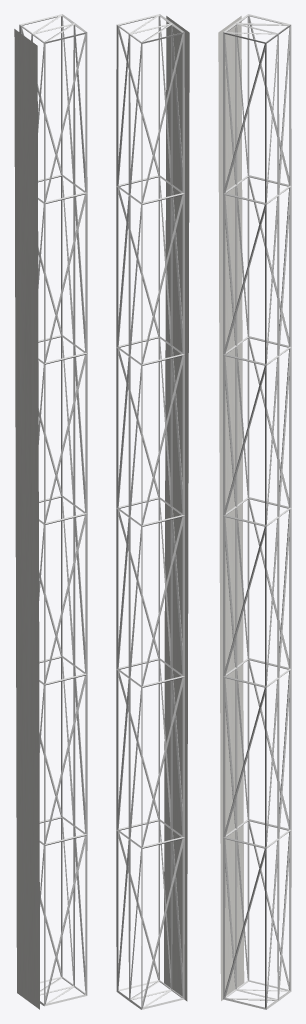
3 renders of one model, left to right at view 1: azimuth 30°, elevation 25°; view 2: azimuth 210°, elevation 25°; view 3: azimuth 330°, elevation 25°, orthographic.
Visible parts, largest first — view 1: Cube.003; view 2: Cube.003; view 3: Cube.003.
Part boxes in pixels (left/top/right/bottom): Cube.003: left=14, top=14, right=87, bottom=1009; Cube.003: left=116, top=14, right=189, bottom=1009; Cube.003: left=218, top=14, right=291, bottom=1009.
Bounding box in the file's own units: 2.14 × 40.3 × 1.89.
Materials: 1 (1 with a texture image).
